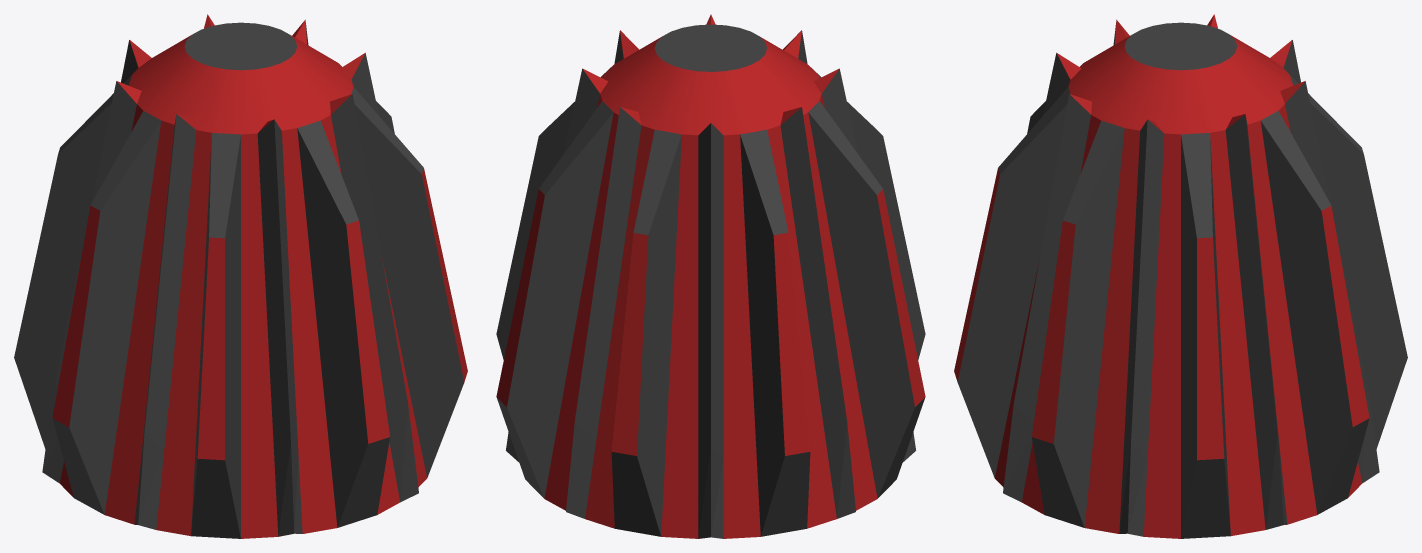
The model's file is Spaceship.fbx.
The picture shows the model from 3 angles, left to right: view 1: azimuth 30°, elevation 25°; view 2: azimuth 150°, elevation 25°; view 3: azimuth 270°, elevation 25°; orthographic projection.
Parts seen in each view (by area): view 1: Spaceship; view 2: Spaceship; view 3: Spaceship.
Boxes of the visible parts, x1,y1,x2,y2 form: Spaceship: (14,14,467,538); Spaceship: (496,14,925,538); Spaceship: (954,14,1407,538).
Size of the model in its own units: 33.3 by 33.27 by 33.3.
Materials: 2 (2 with a texture image).
